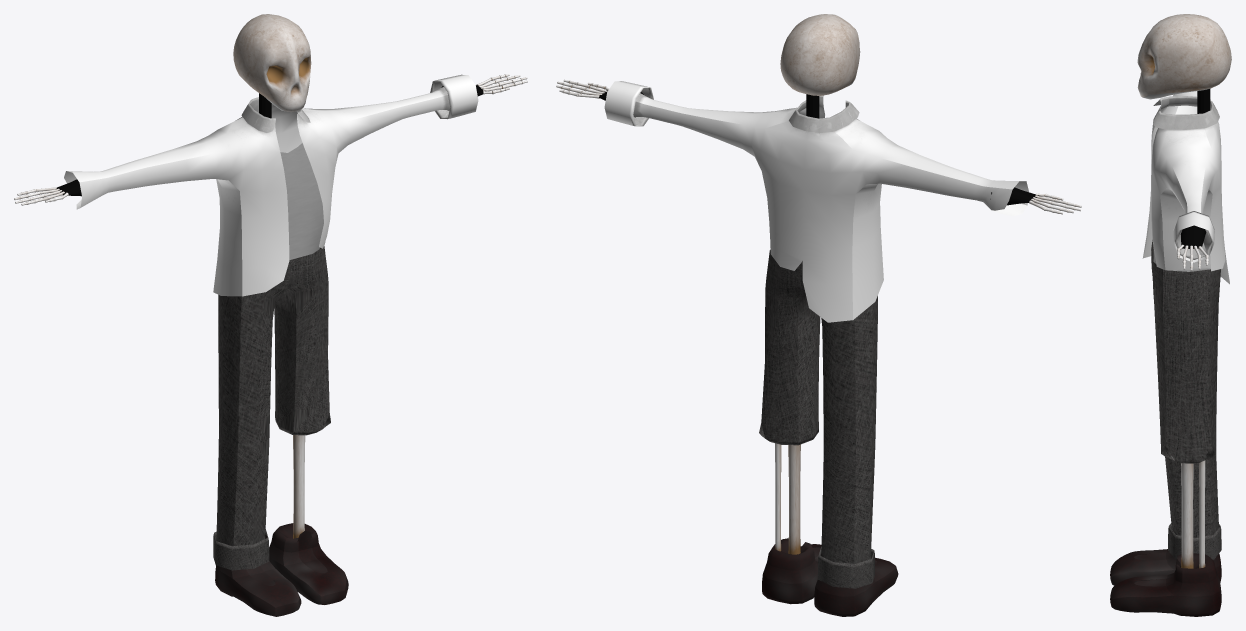
Rendered from DesmondV1.1.fbx.
3 views of the same model, side by side, from view 1: azimuth 30°, elevation 25°; view 2: azimuth 150°, elevation 25°; view 3: azimuth 270°, elevation 25° (orthographic). The views are drawn at different scales.
Parts seen in each view (by area): view 1: Cube; view 2: Cube; view 3: Cube.
Boxes of the visible parts, x1,y1,x2,y2 form: Cube: (14, 14, 527, 616); Cube: (556, 14, 1081, 616); Cube: (1110, 14, 1231, 616).
Bounding box in the file's own units: 192 × 203 × 38.8.
